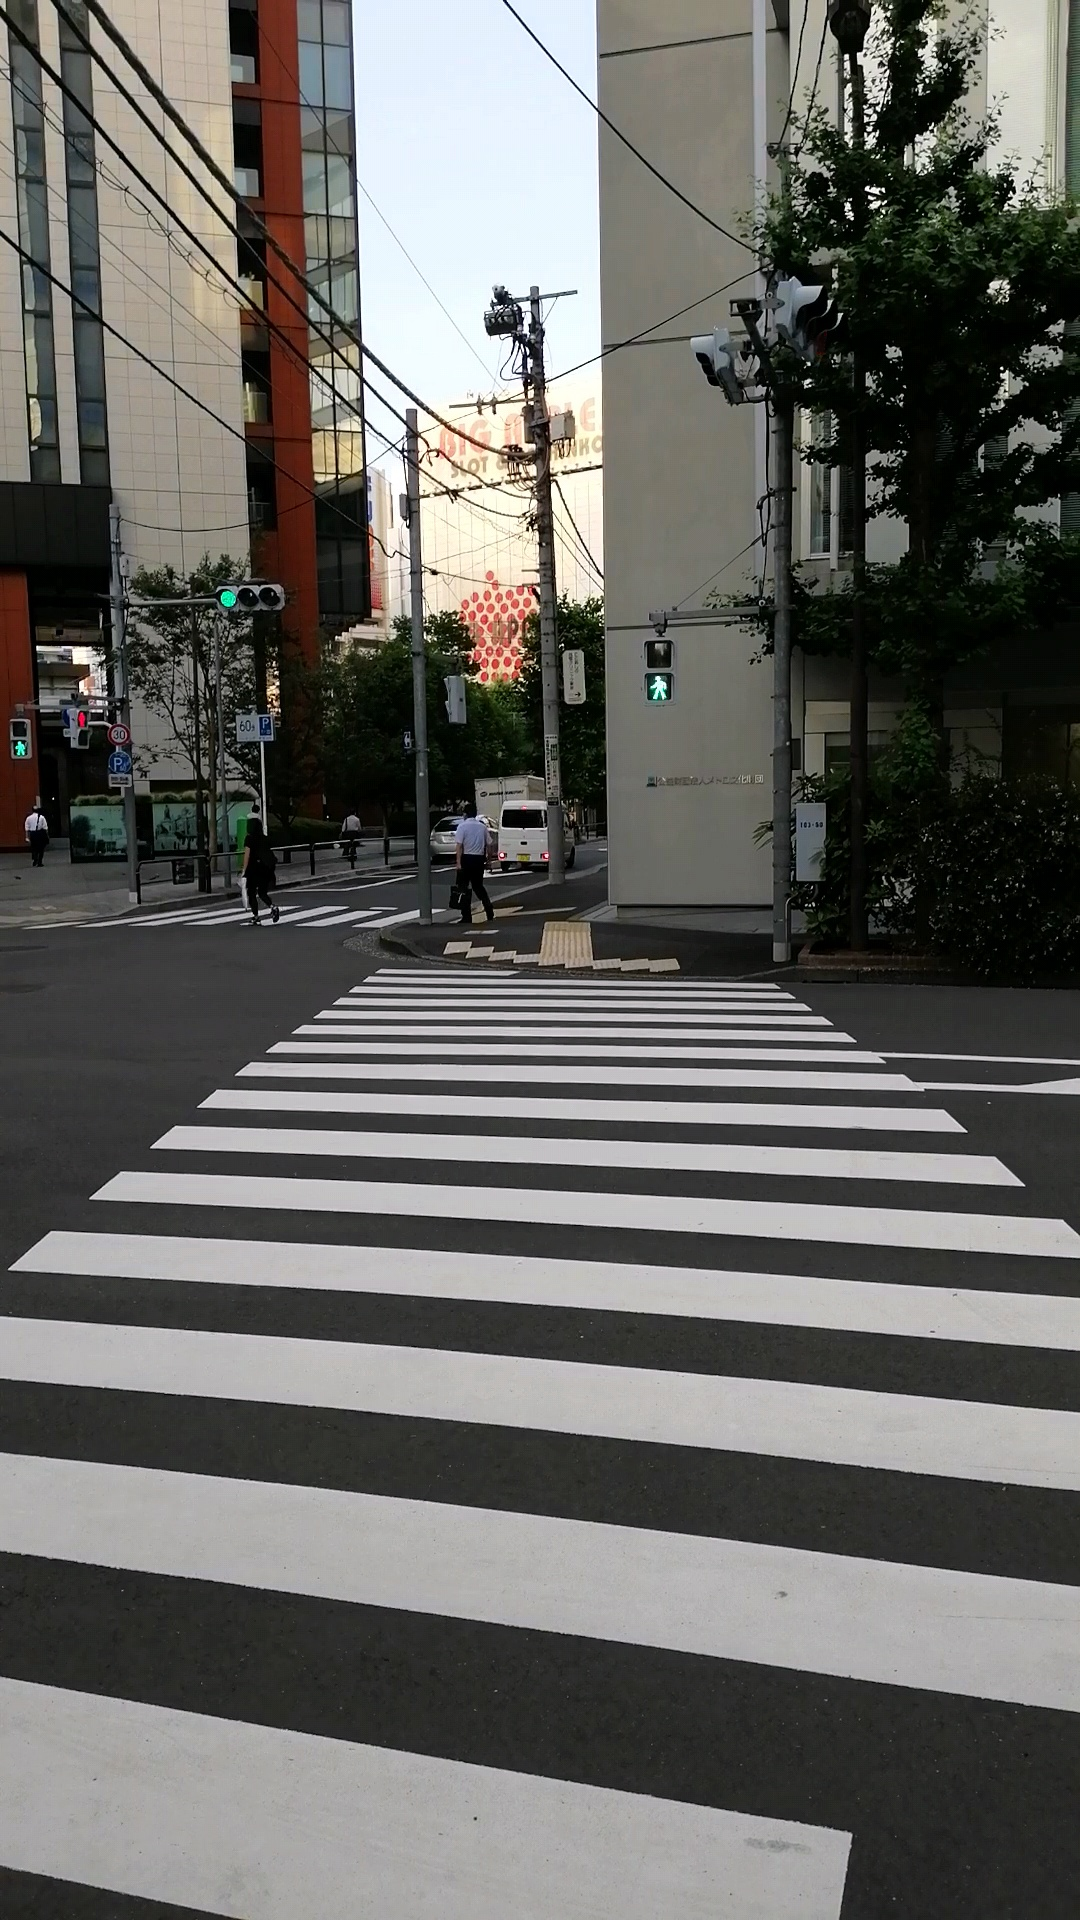green: (642, 637, 676, 705), (7, 719, 32, 761)
red: (66, 705, 91, 748)
